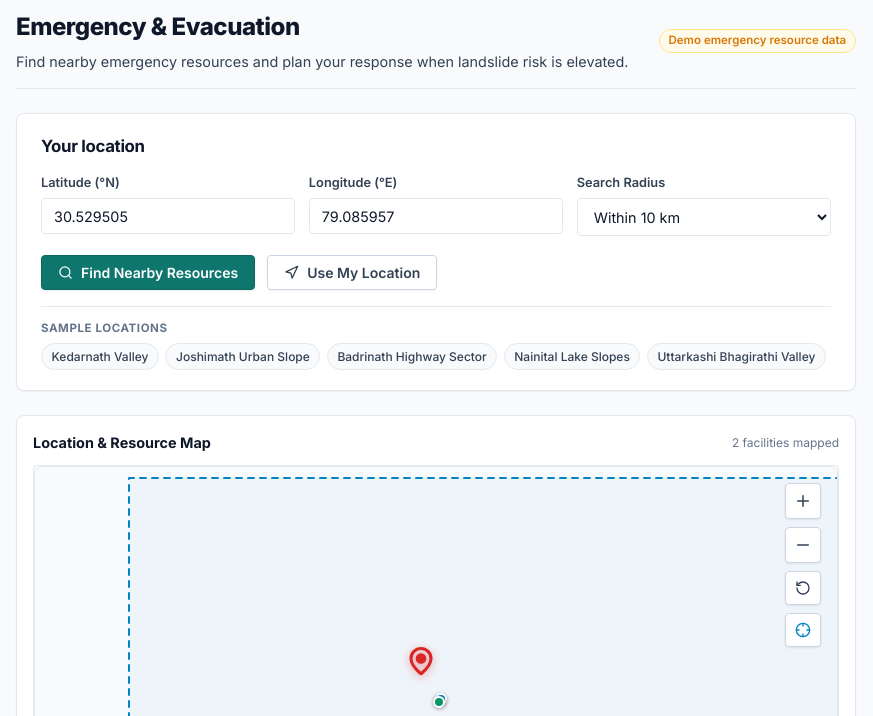
Test case: Emergency & Evacuation (/emergency) Page Refactor › rejects unsupported locations outside operational area and clears stale results
# Change latitude to outside Uttarakhand
Replace the text in the number field with placeholder "e.g. 30.5295" below "Latitude (°N)" with "25.0000" at (168, 216), box [41,198,295,234]
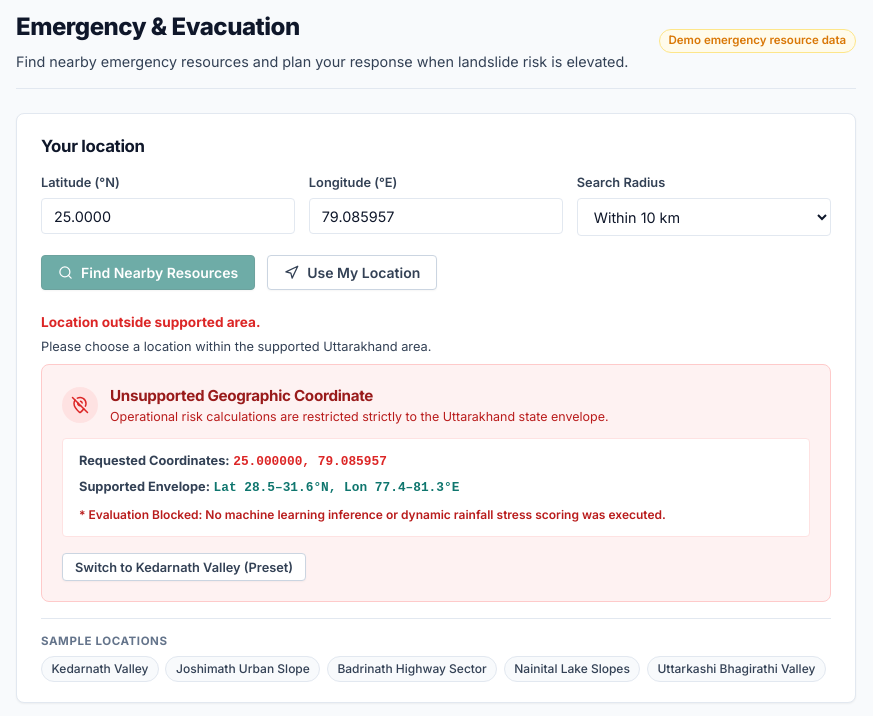
Expected: the text "Location outside supported area." is shown, [41,314,260,330]
